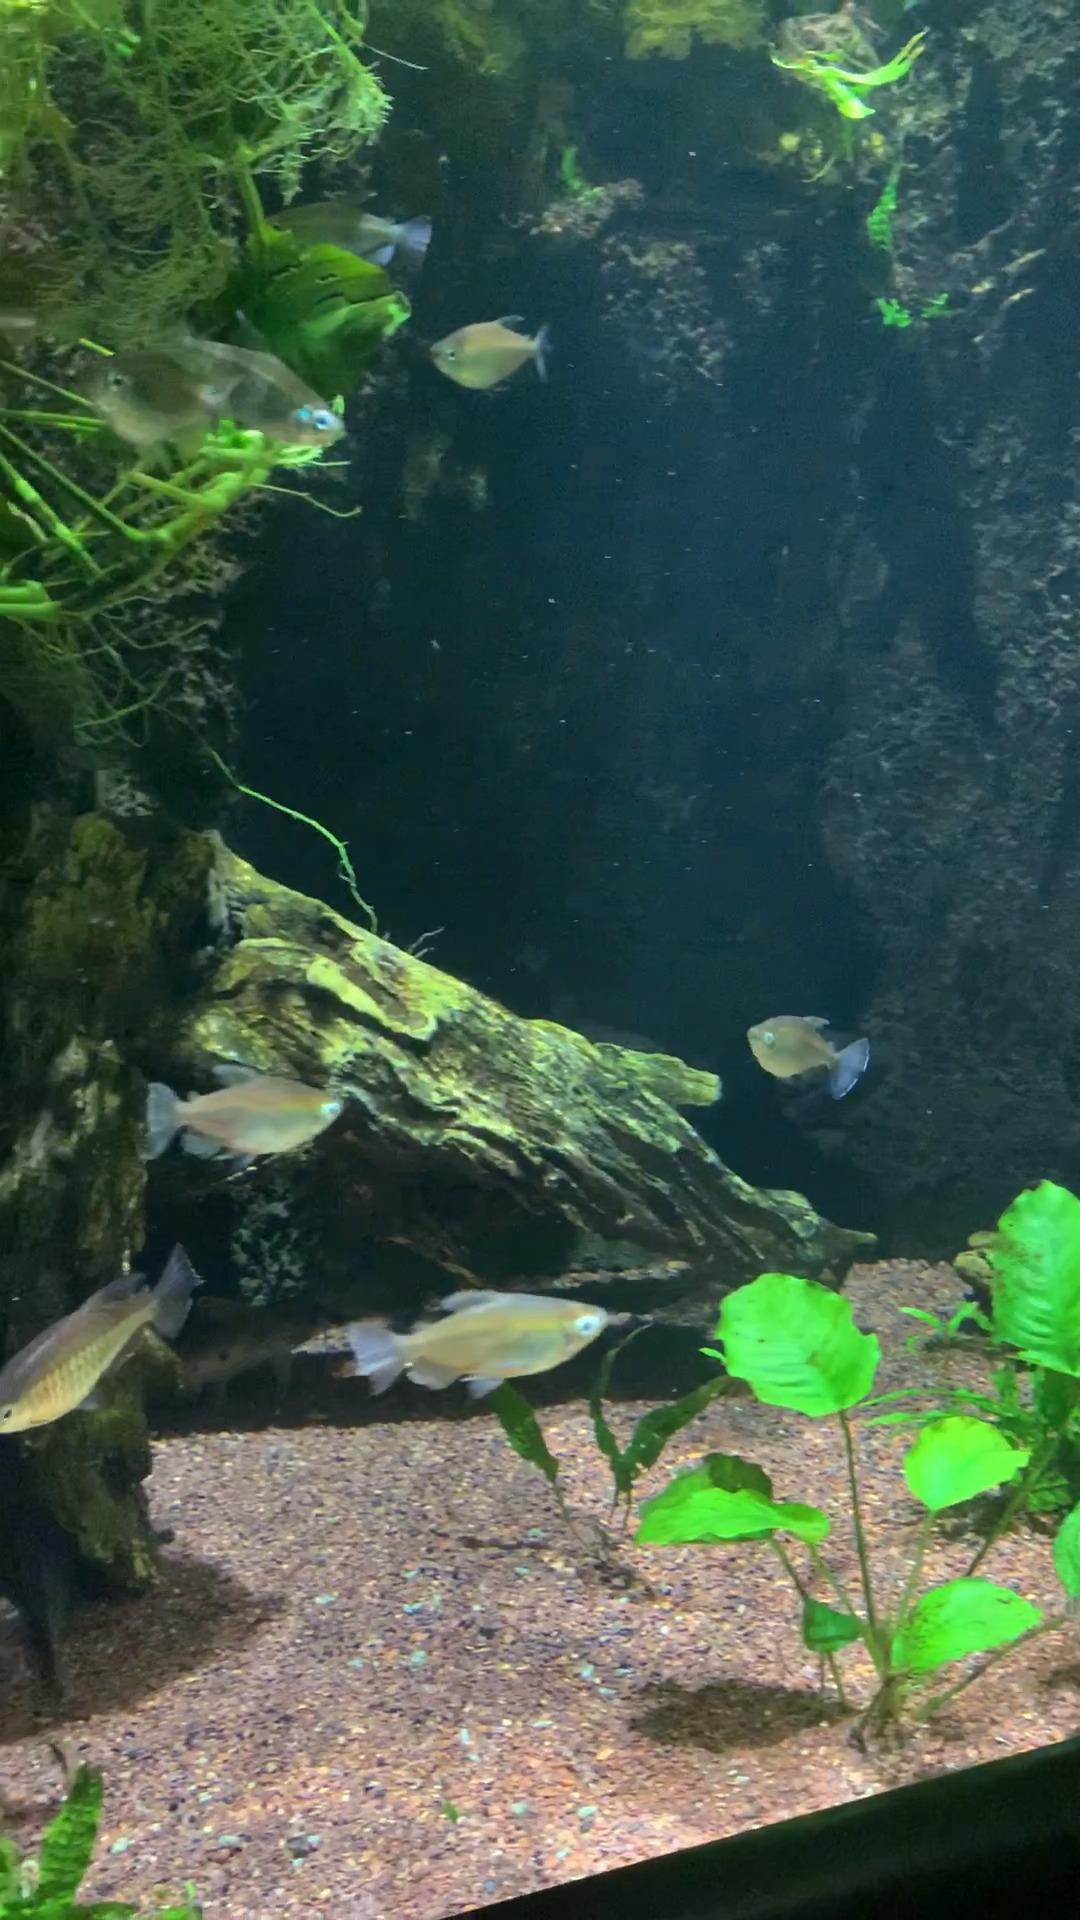fish: (0, 1240, 207, 1443), (338, 1279, 611, 1416), (132, 318, 345, 463), (229, 178, 447, 290), (137, 1063, 352, 1174), (63, 328, 207, 454), (745, 1005, 876, 1098), (426, 307, 563, 396)
